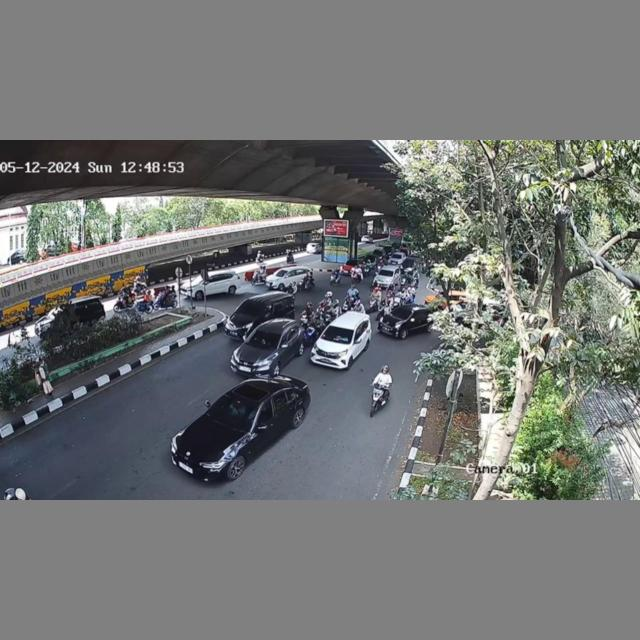windshield: (210, 394, 261, 433), (245, 328, 284, 351), (322, 325, 354, 345)
